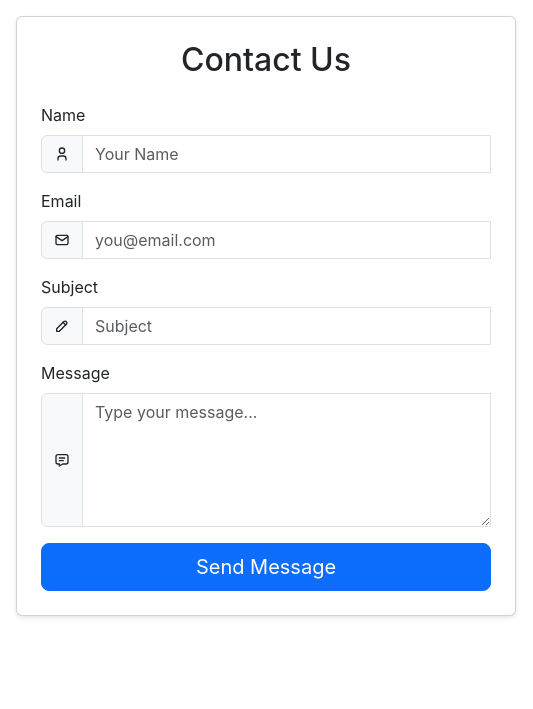
Test: Contact Page › shows success message on successful submit
In the field labelled "Name": (286, 154) [82,135,491,173], type "Test User"
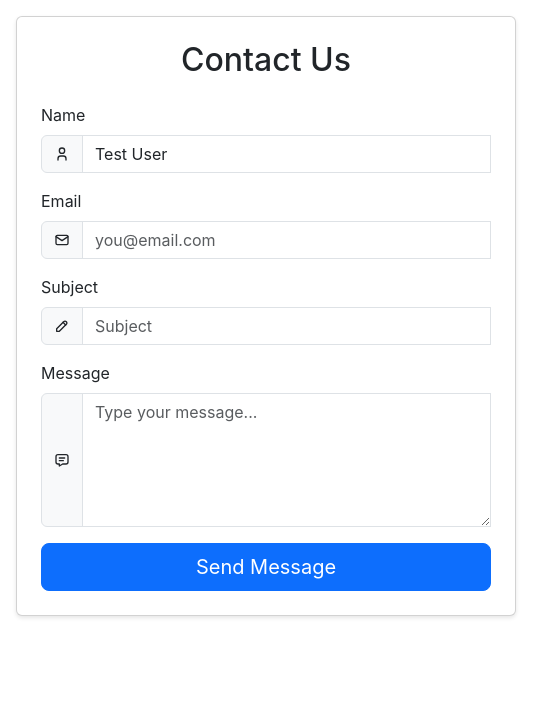
In the field labelled "Email": (286, 240) [82,221,491,259], type "test@example.com"
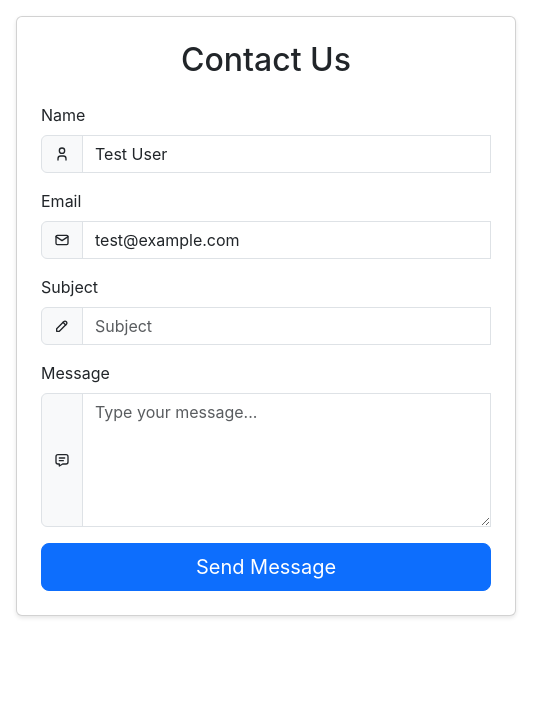
In the field labelled "Subject": (286, 326) [82,307,491,345], type "Test Subject"
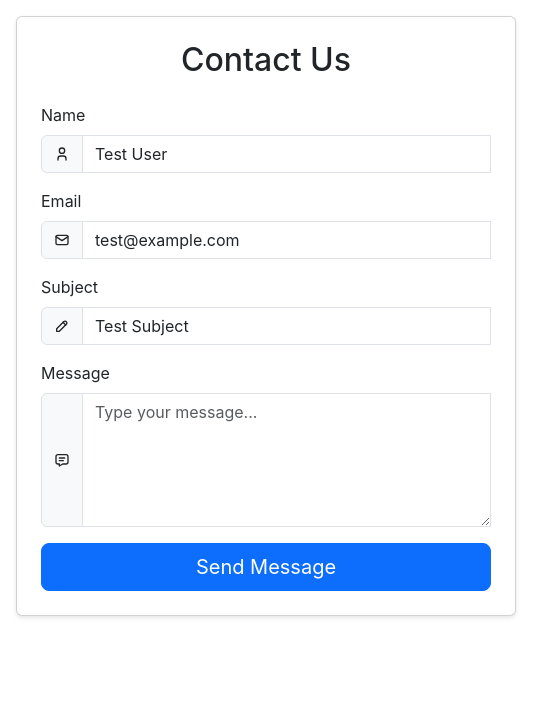
In the text box labelled "Message": (286, 460) [82,393,491,527], type "Test message"
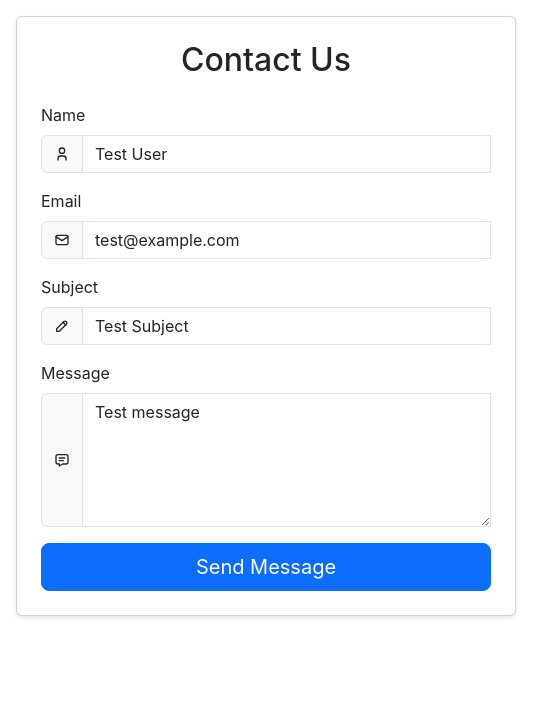
Click the button "Send Message": (266, 567) [41,543,491,591]
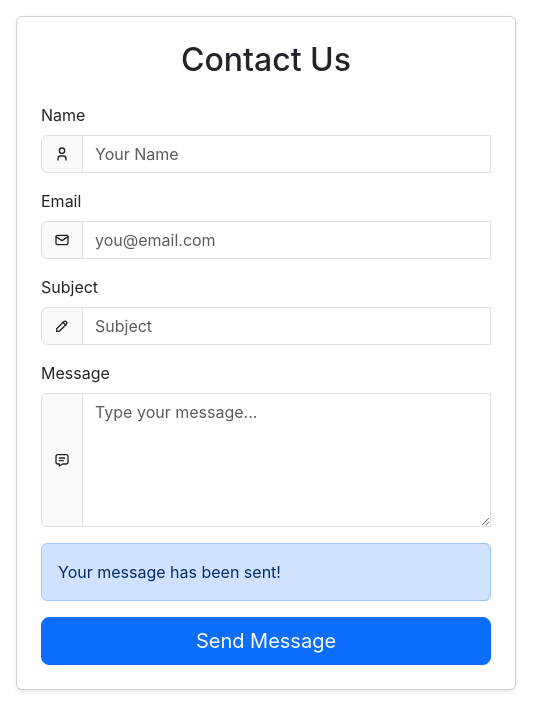
Result: the text "Your message has been sent!" is shown at [41,543,491,601]
